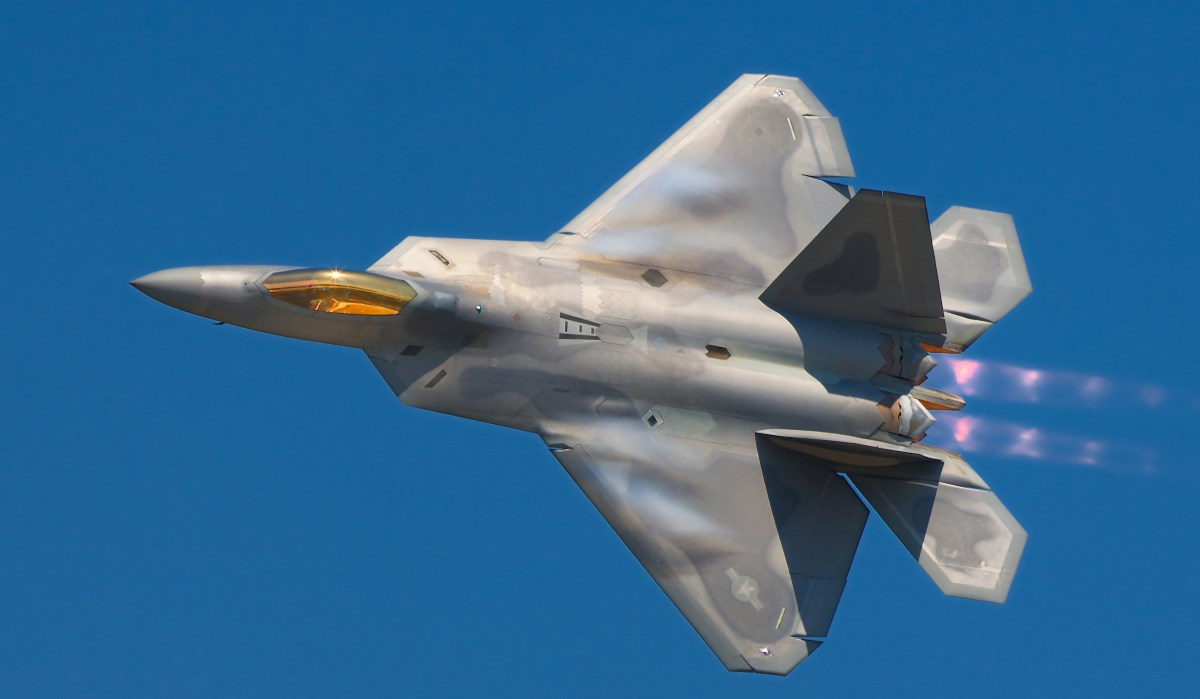F-22 Raptor: (73, 55, 1096, 675)
